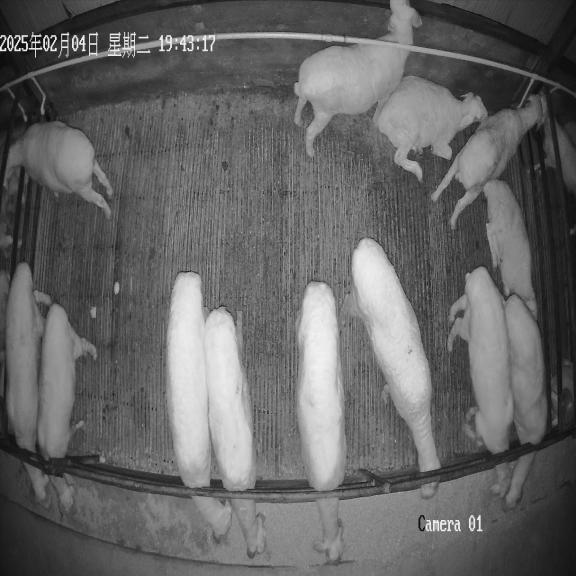drinking: (432, 95, 548, 228)
eating: (341, 238, 441, 499), (166, 272, 231, 541), (447, 267, 516, 498), (204, 306, 265, 558), (295, 282, 346, 563), (37, 304, 97, 514), (5, 262, 54, 501), (504, 293, 548, 508)
lying: (373, 76, 487, 180), (485, 180, 537, 316)
stand: (294, 0, 422, 156), (3, 121, 113, 217)
